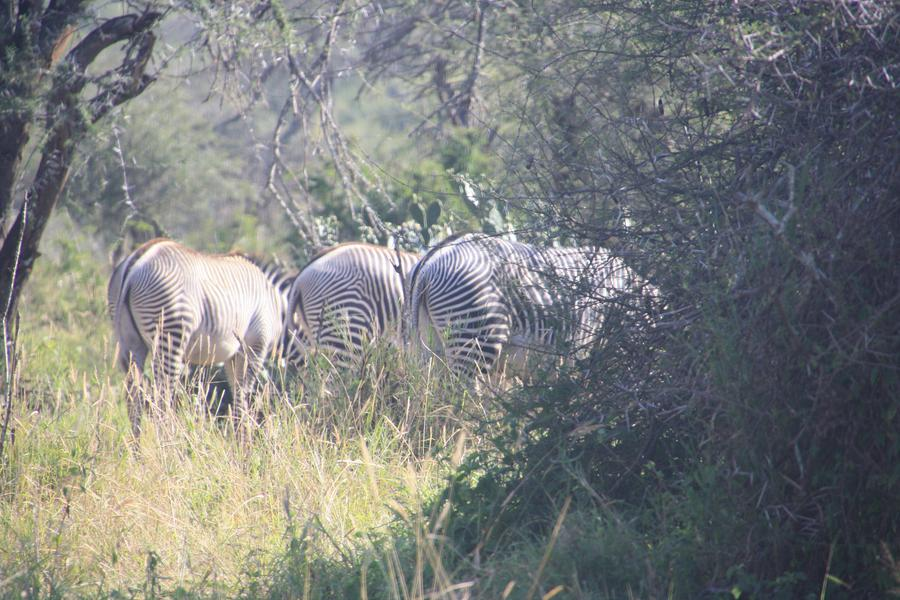zebra_grevys: (291, 236, 400, 334)
